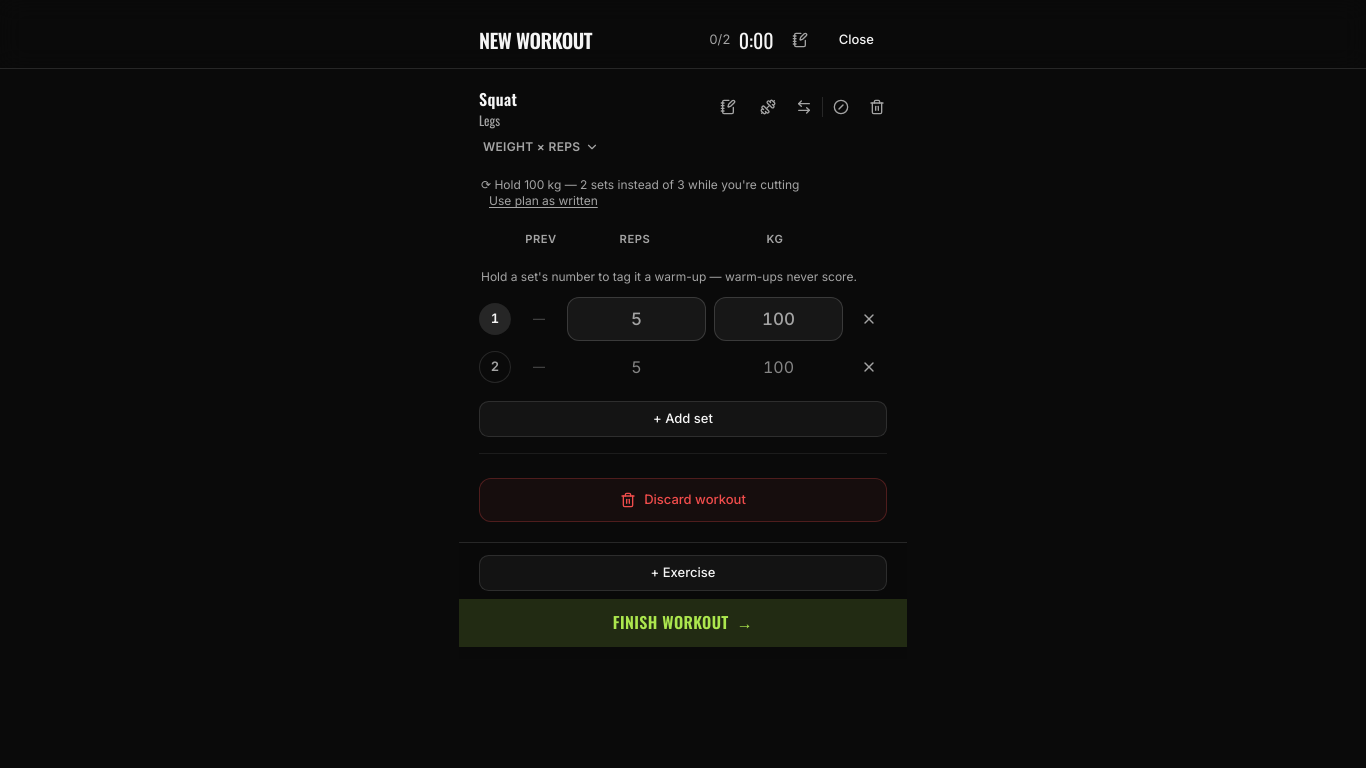
Test: autoreg revert restores a cutting volume cut › re-adds a row per trimmed set and gives it the plan ghost
What coordinates should you click on to do the following:
click the button "Use plan as written"
I would click on:
 (543, 201)
Its box is [489,193,598,209].
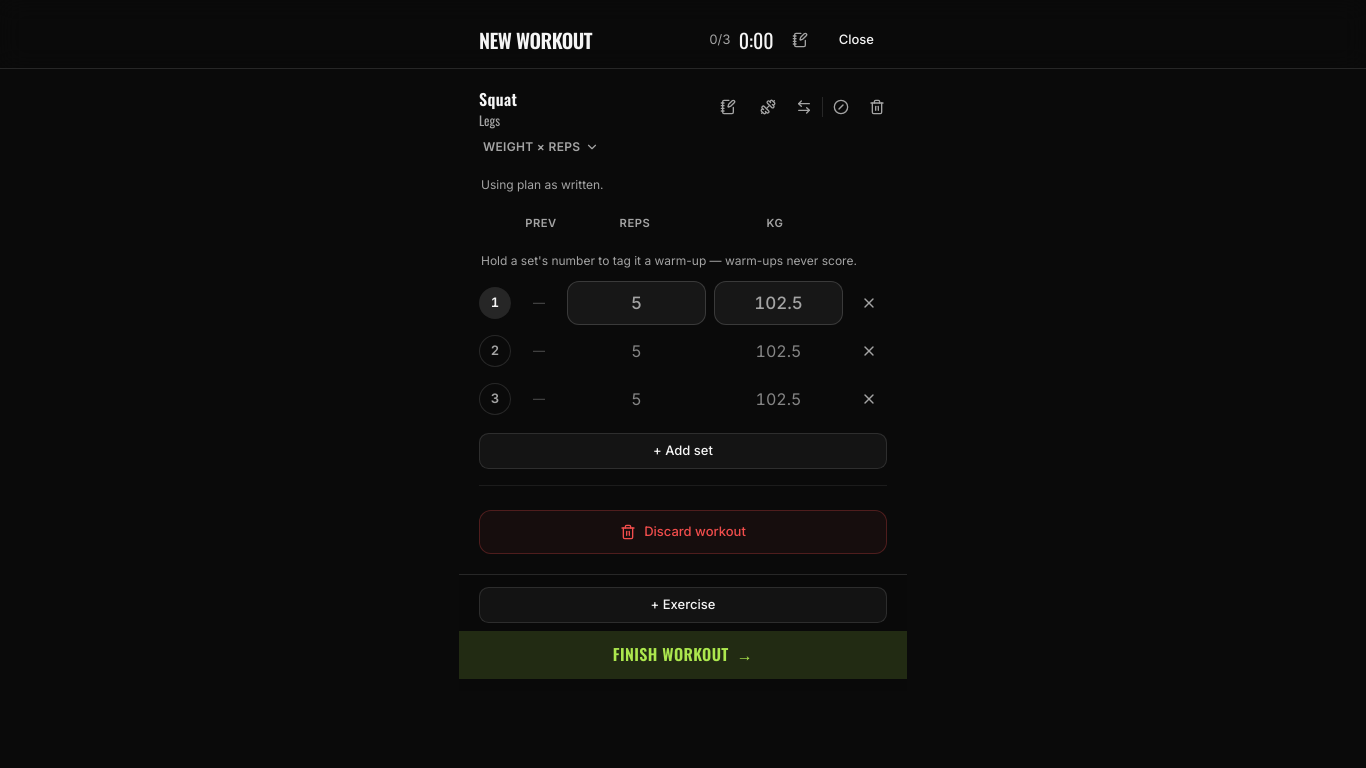
Expected: the text "Using plan as written." is shown, [481,177,604,192]
